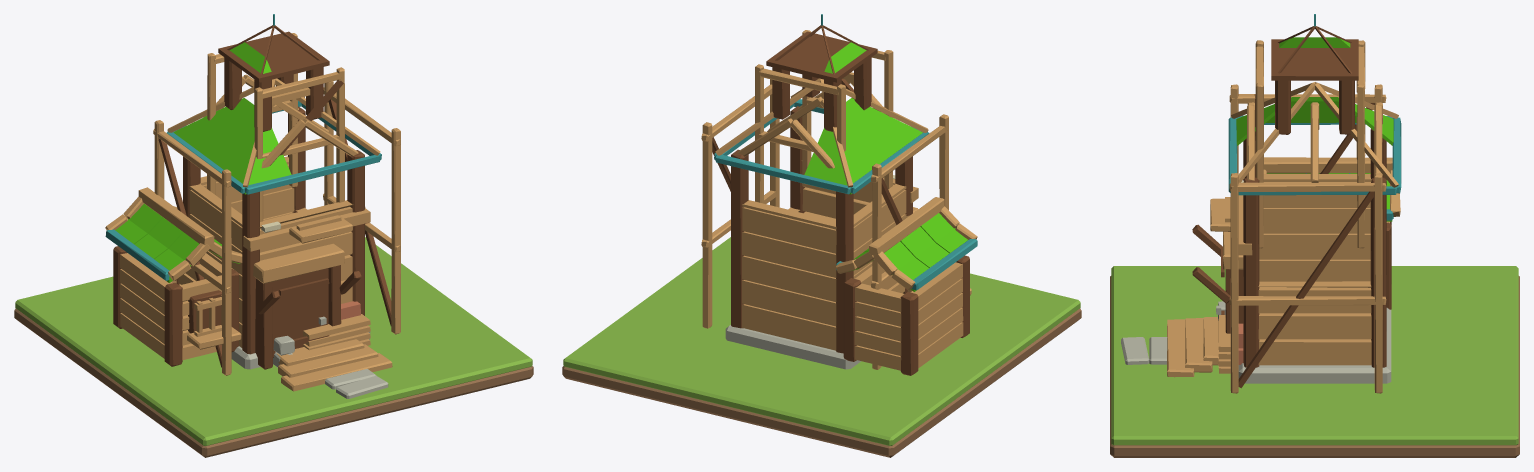
Rendered from town_hall_l04_construction_LOD1.glb.
3 renders of one model, left to right at view 1: azimuth 30°, elevation 25°; view 2: azimuth 150°, elevation 25°; view 3: azimuth 270°, elevation 25°, orthographic. The views are drawn at different scales.
Parts seen in each view (by area): view 1: town_hall_l04_construction_foundation.001, town_hall_l04_construction_grass_tile.001, town_hall_l04_construction_earth_tile.001, town_hall_l04_construction_path_stone.005; view 2: town_hall_l04_construction_foundation.001, town_hall_l04_construction_grass_tile.001, town_hall_l04_construction_earth_tile.001; view 3: town_hall_l04_construction_foundation.001, town_hall_l04_construction_grass_tile.001, town_hall_l04_construction_earth_tile.001, town_hall_l04_construction_path_stone.005, town_hall_l04_construction_path_stone.004.
Part boxes in pixels (x1,y1,x2,y2): town_hall_l04_construction_foundation.001: (105,14,400,391); town_hall_l04_construction_grass_tile.001: (15,237,532,445); town_hall_l04_construction_earth_tile.001: (14,308,533,457); town_hall_l04_construction_path_stone.005: (336,375,388,398); town_hall_l04_construction_foundation.001: (701,14,977,375); town_hall_l04_construction_grass_tile.001: (563,237,1080,445); town_hall_l04_construction_earth_tile.001: (562,308,1081,457); town_hall_l04_construction_foundation.001: (1167,14,1401,393); town_hall_l04_construction_grass_tile.001: (1111,266,1518,445); town_hall_l04_construction_earth_tile.001: (1110,276,1519,457); town_hall_l04_construction_path_stone.005: (1121,337,1149,364); town_hall_l04_construction_path_stone.004: (1149,337,1167,364).
Bounding box in the file's own units: 3.6 × 3.48 × 3.6.
